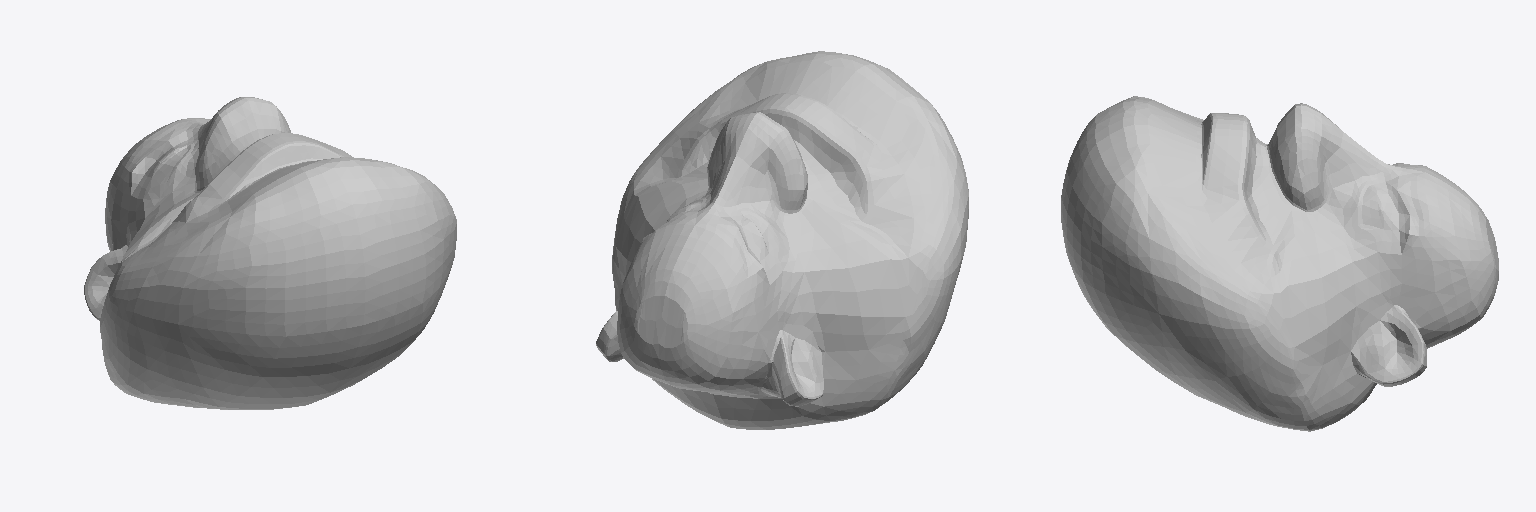
File: ClownHead.obj
3 renders of one model, left to right at view 1: azimuth 30°, elevation 25°; view 2: azimuth 150°, elevation 25°; view 3: azimuth 270°, elevation 25°, orthographic.
Visible parts, largest first — view 1: ClownHead; view 2: ClownHead; view 3: ClownHead.
Part boxes in pixels (x1,y1,x2,y2): ClownHead: (84,97,456,409); ClownHead: (596,51,968,429); ClownHead: (1061,96,1498,431).
Bounding box in the file's own units: 8.8 × 7.85 × 10.36.